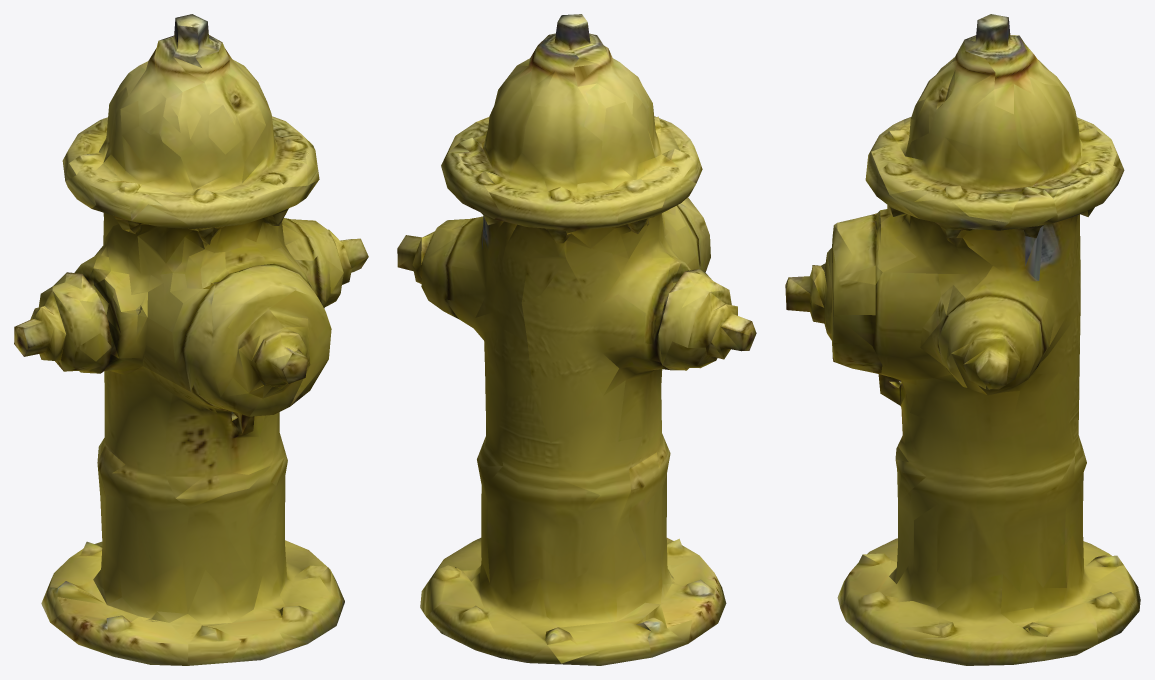
File: hydrant_b.glb
3 renders of one model, left to right at view 1: azimuth 30°, elevation 25°; view 2: azimuth 150°, elevation 25°; view 3: azimuth 270°, elevation 25°, orthographic.
Parts seen in each view (by area): view 1: Fire_Hydrant_2_w; view 2: Fire_Hydrant_2_w; view 3: Fire_Hydrant_2_w.
Part boxes in pixels (bbox=[...]): Fire_Hydrant_2_w: bbox=[14, 14, 368, 665]; Fire_Hydrant_2_w: bbox=[397, 14, 756, 665]; Fire_Hydrant_2_w: bbox=[785, 14, 1140, 665].
Size of the model in its own units: 0.4956 by 0.799 by 0.4424.
Materials: 1 (1 with a texture image).
